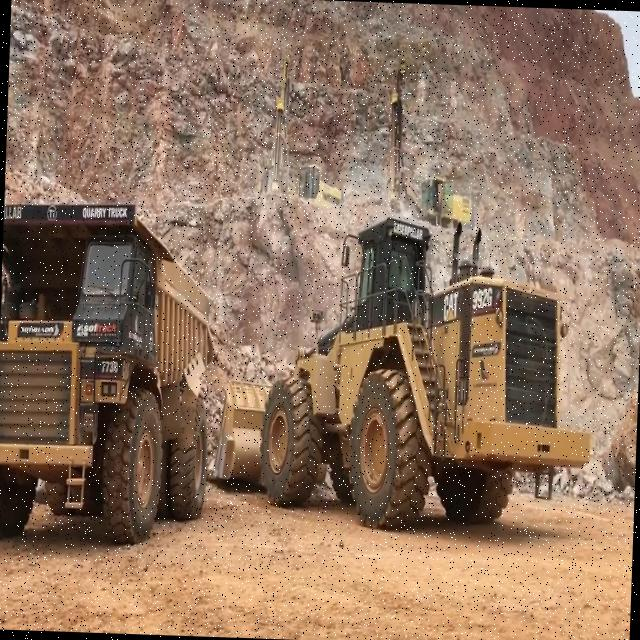Dump Truck: (0, 195, 224, 551)
Loader: (207, 206, 598, 535)
